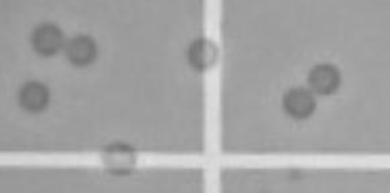cell: (182, 33, 228, 77), (97, 135, 142, 179), (304, 57, 348, 100), (277, 80, 320, 123), (13, 76, 54, 120), (26, 19, 68, 61), (60, 32, 101, 71)
